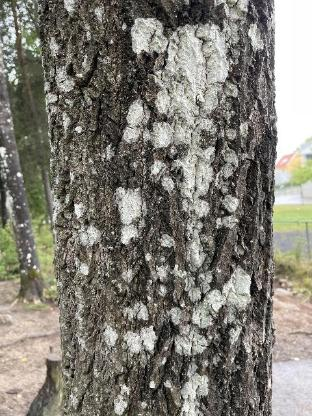tree: (29, 0, 290, 416)
